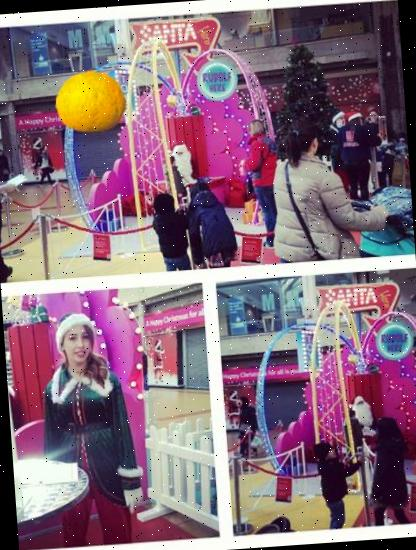Cantaloupe: (53, 64, 128, 138)
